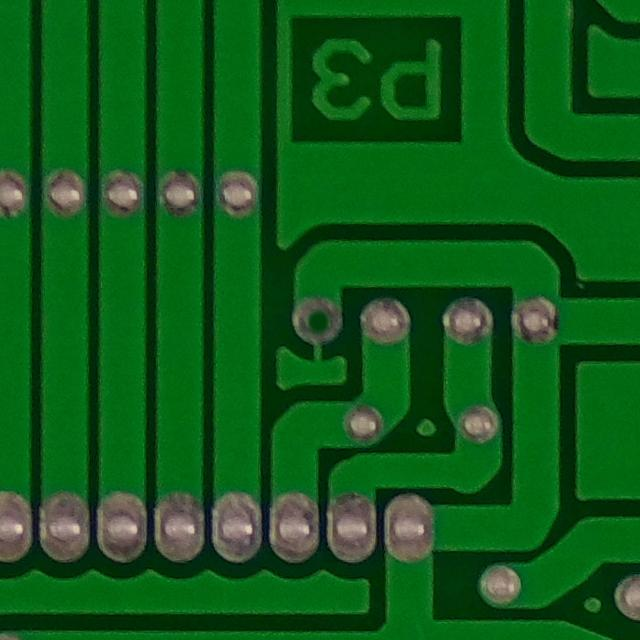missing_hole: (285, 282, 356, 358)
